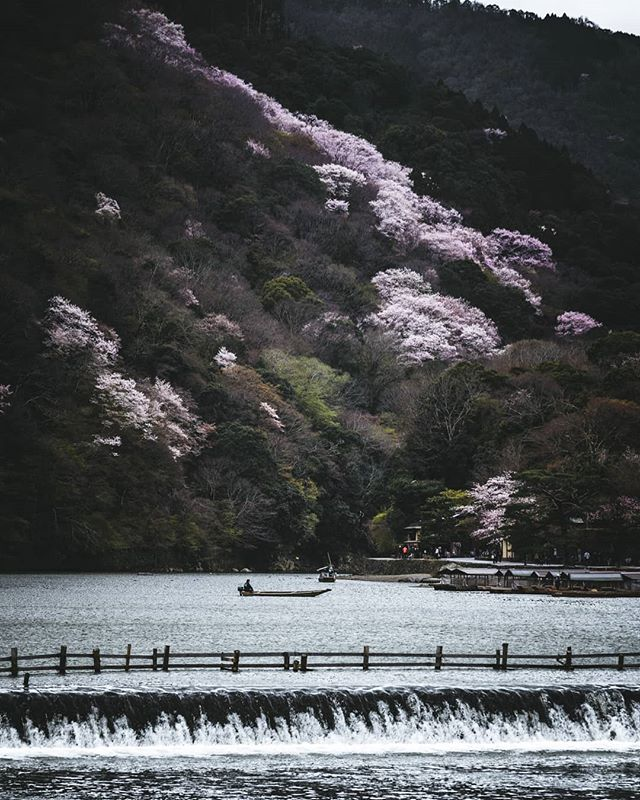boat: (237, 572, 330, 602)
river: (16, 572, 632, 657)
vegetation: (1, 1, 605, 547)
waterfall: (22, 661, 617, 773)
